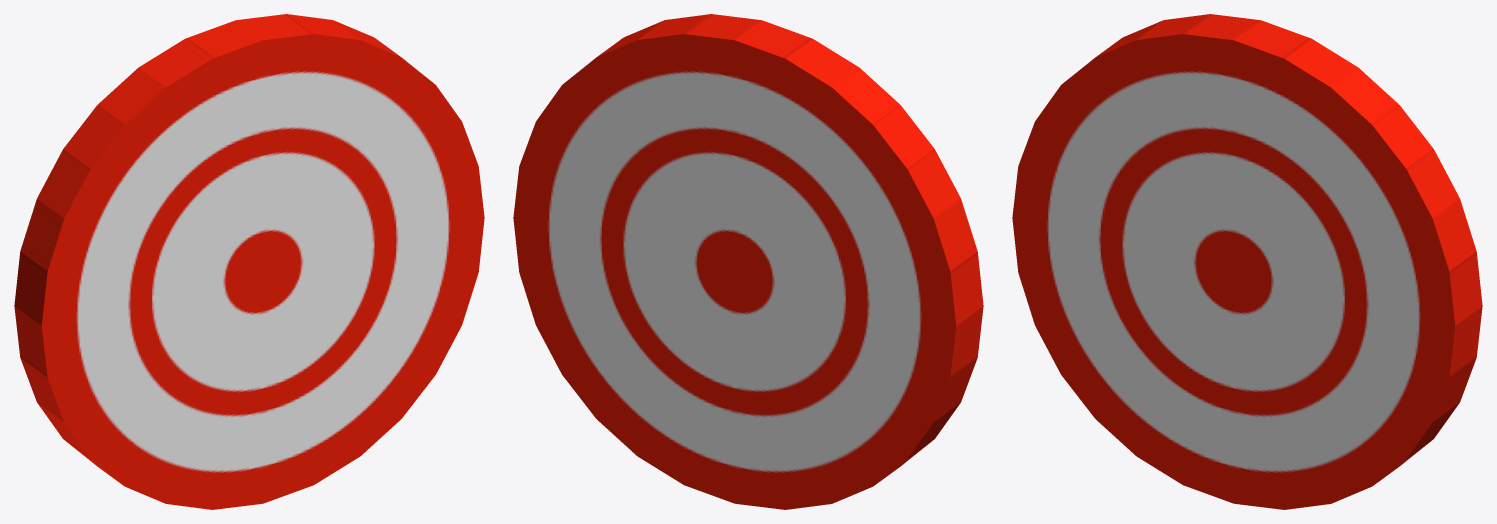
Rendered from target.FBX.
The picture shows the model from 3 angles, left to right: view 1: azimuth 30°, elevation 25°; view 2: azimuth 150°, elevation 25°; view 3: azimuth 330°, elevation 25°; orthographic projection.
Parts seen in each view (by area): view 1: Circle001; view 2: Circle001; view 3: Circle001.
Part boxes in pixels (x1,y1,x2,y2): Circle001: (14, 14, 484, 509); Circle001: (513, 14, 983, 509); Circle001: (1012, 14, 1482, 509).
Bounding box in the file's own units: 56.03 × 56.03 × 6.
1 material, 1 textured.
